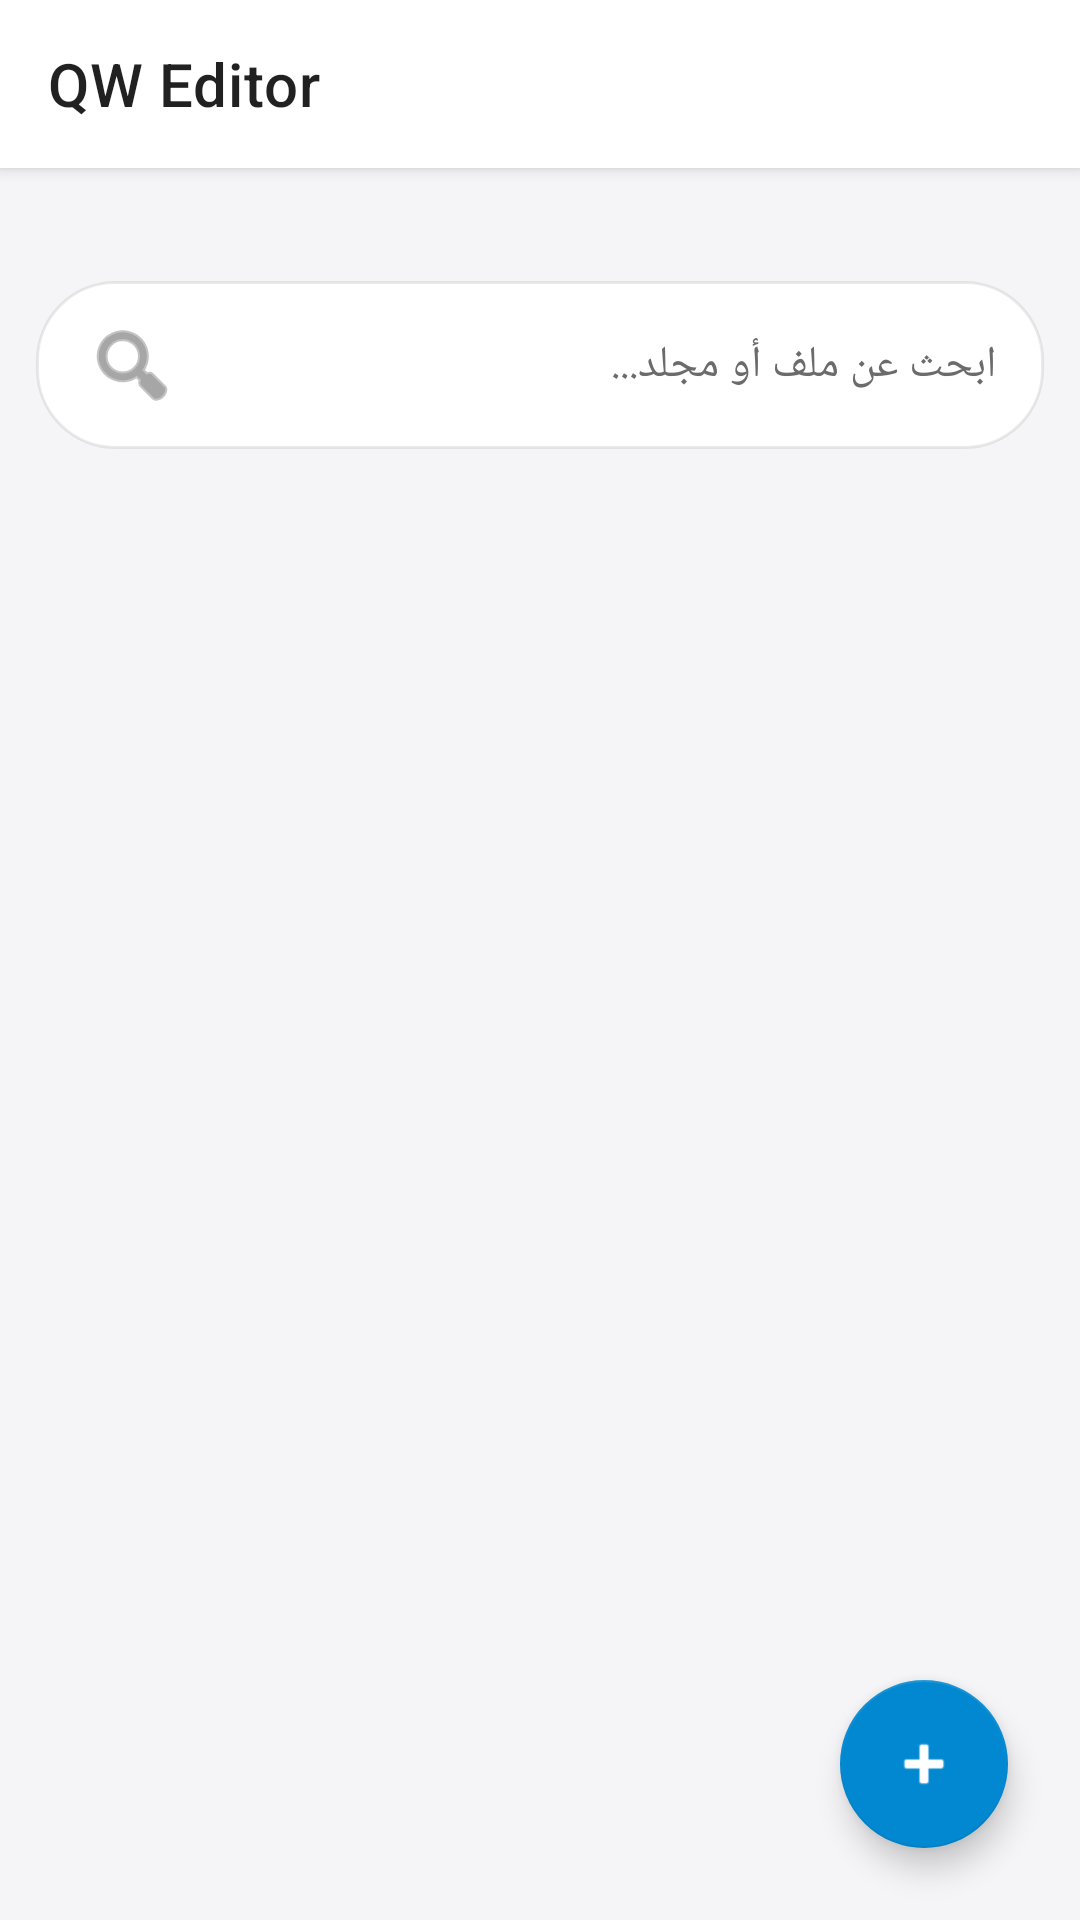

Screen size 1080w x 1920h. Icon name, then its box in pixels as (x1, y1, x2, y2):
ملف جديد: (840, 1680, 1008, 1848)
